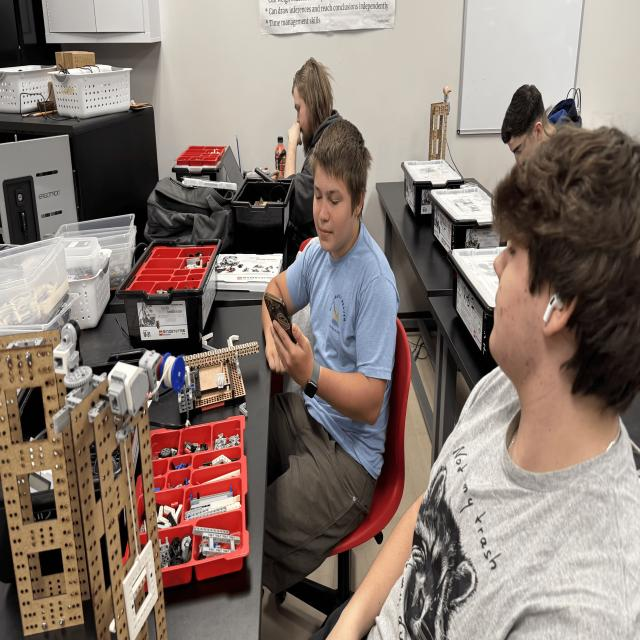pen: (264, 292, 298, 356), (255, 167, 278, 187)
